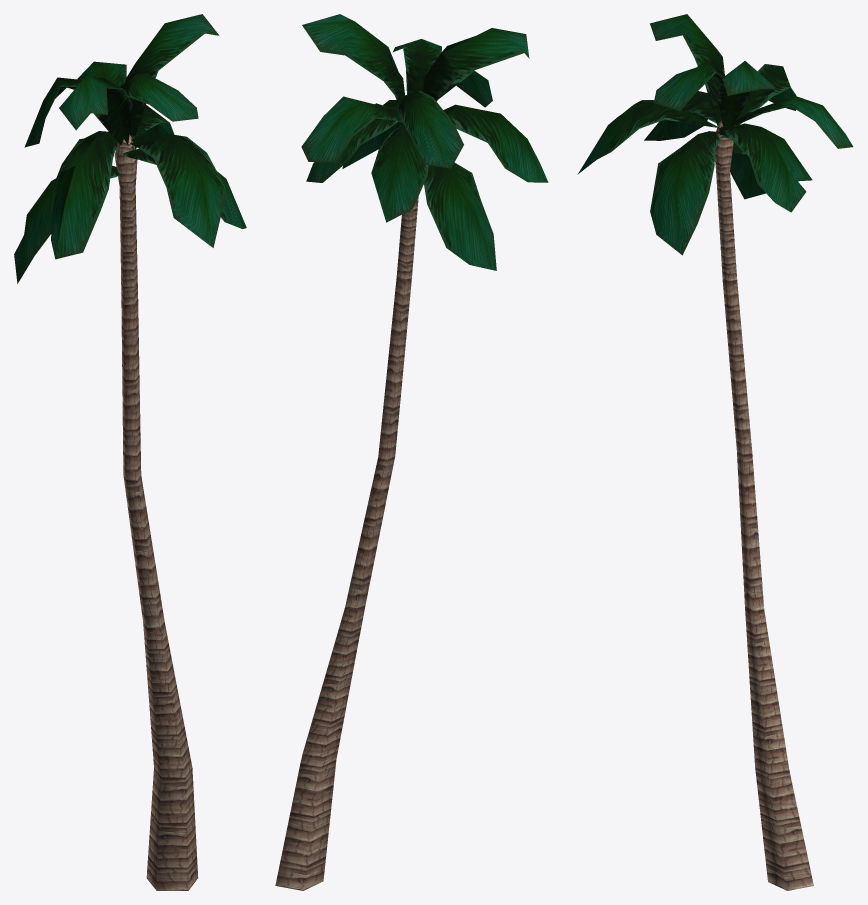
Rendered from palm_tree_b.fbx.
3 views of the same model, side by side, from view 1: azimuth 30°, elevation 25°; view 2: azimuth 150°, elevation 25°; view 3: azimuth 270°, elevation 25° (orthographic). The views are drawn at different scales.
Parts seen in each view (by area): view 1: hi_leaf_b, hi_trunk_a; view 2: hi_leaf_b, hi_trunk_a; view 3: hi_leaf_b, hi_trunk_a.
Part boxes in pixels (bbox=[...]): hi_leaf_b: bbox=[14, 14, 246, 283]; hi_trunk_a: bbox=[114, 135, 198, 890]; hi_leaf_b: bbox=[301, 14, 548, 270]; hi_trunk_a: bbox=[275, 196, 418, 890]; hi_leaf_b: bbox=[577, 14, 853, 255]; hi_trunk_a: bbox=[715, 120, 813, 890].
Bounding box in the file's own units: 1651 × 6575 × 2044.
2 materials, 2 textured.
